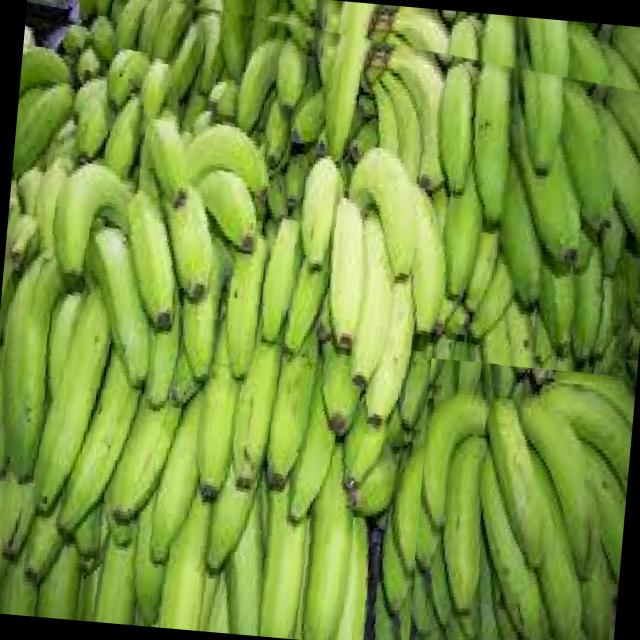Organic: (0, 0, 640, 640), (405, 358, 636, 640)
